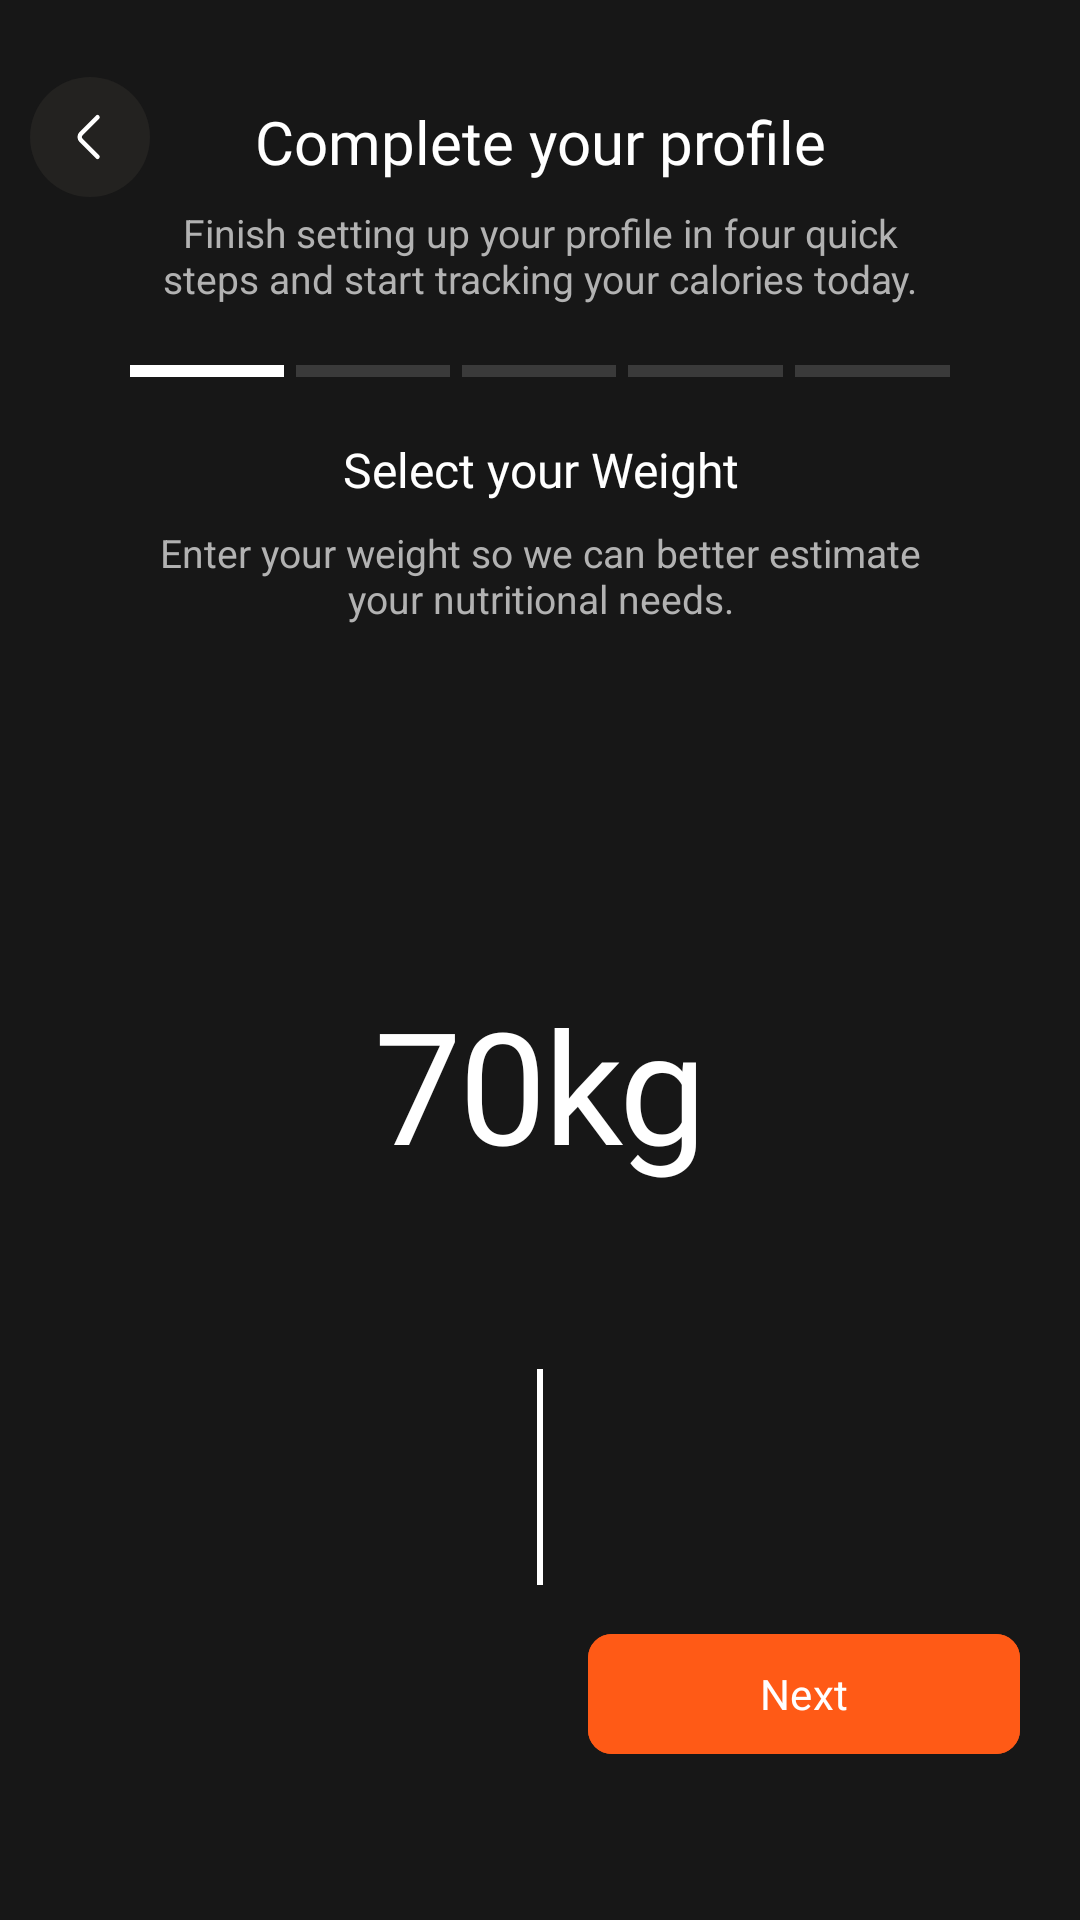

Where icons sit on this 1080px×1920px app screen, as (x1, y1, x2, y2):
back: (30, 77, 150, 197)
